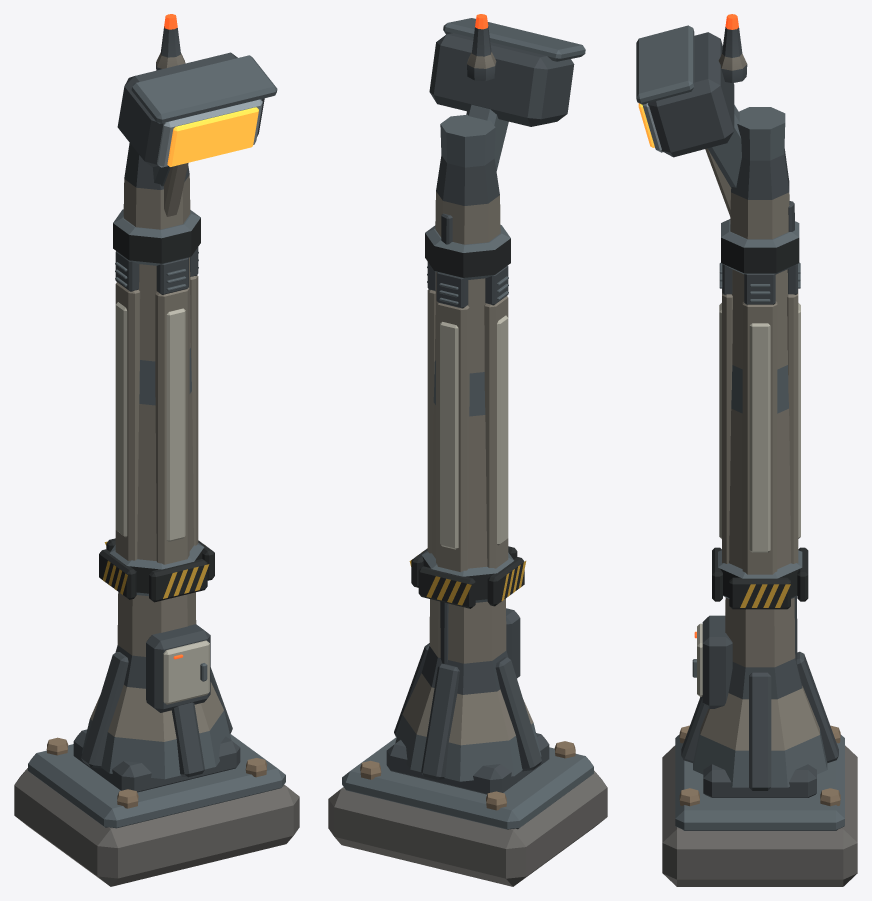
The model's file is industrial_pylon.glb.
The picture shows the model from 3 angles, left to right: view 1: azimuth 30°, elevation 25°; view 2: azimuth 150°, elevation 25°; view 3: azimuth 270°, elevation 25°; orthographic projection. The views are drawn at different scales.
Visible parts, largest first — view 1: industrial_pylon; view 2: industrial_pylon; view 3: industrial_pylon.
Part boxes in pixels (x1,y1,x2,y2): industrial_pylon: (14, 14, 299, 886); industrial_pylon: (328, 14, 607, 886); industrial_pylon: (636, 14, 857, 886).
Size of the model in its own units: 2 by 7.83 by 1.9.
